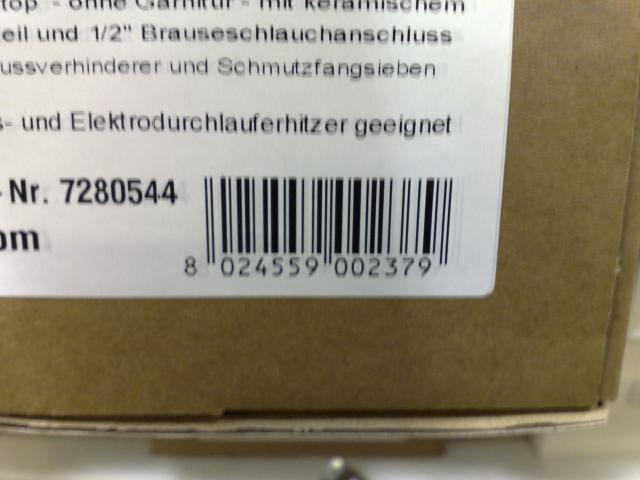Barcode: (177, 164, 470, 288)
